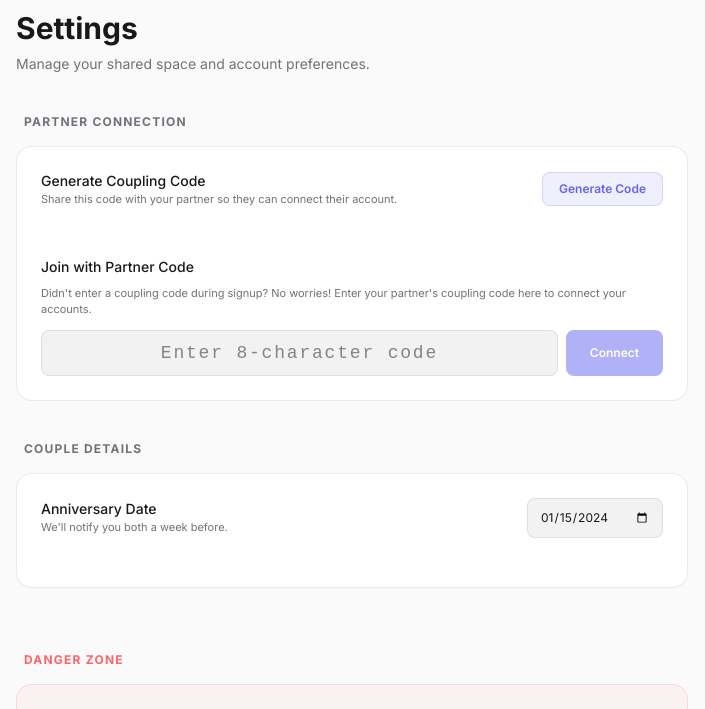
Scenario: SettingsView › displays user-friendly error when coupling code use fails
In the field with placeholder "Enter 8-character code": x=299, y=352 x1=41 y1=330 x2=558 y2=376, type "TESTCODE"
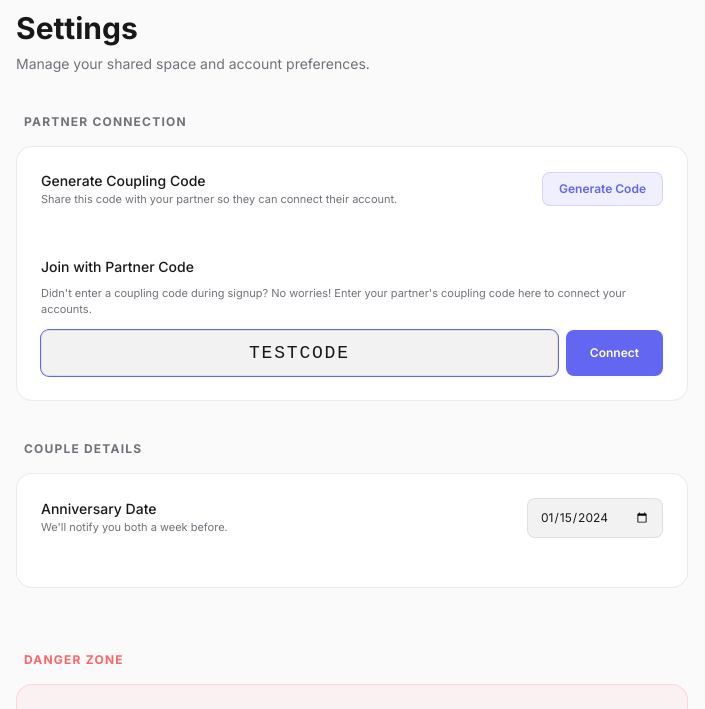
Click the button "Connect": x=614, y=352 x1=566 y1=330 x2=663 y2=376
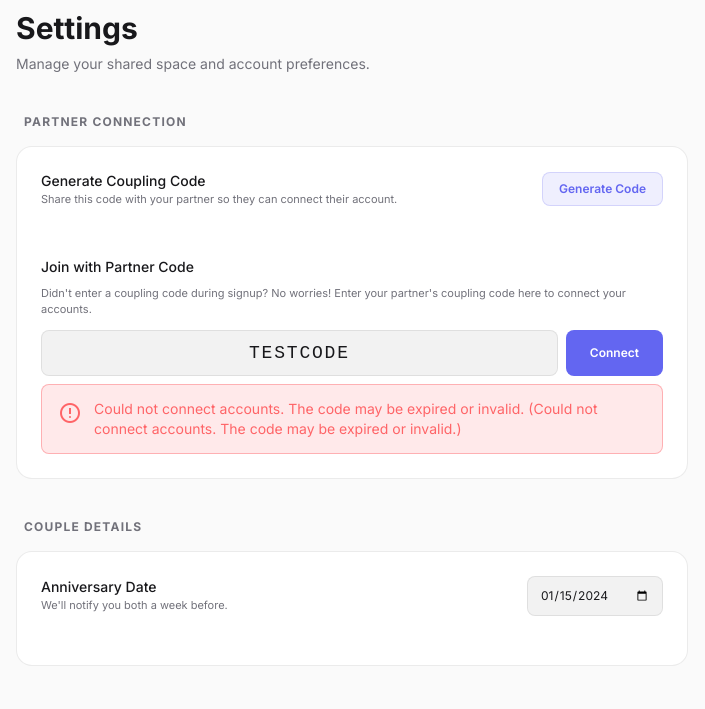
Now the text "Could not connect accounts. The code may be expired or invalid." is shown, box x1=94 y1=400 x2=598 y2=436
